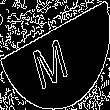M_N: (33, 23, 77, 87)
